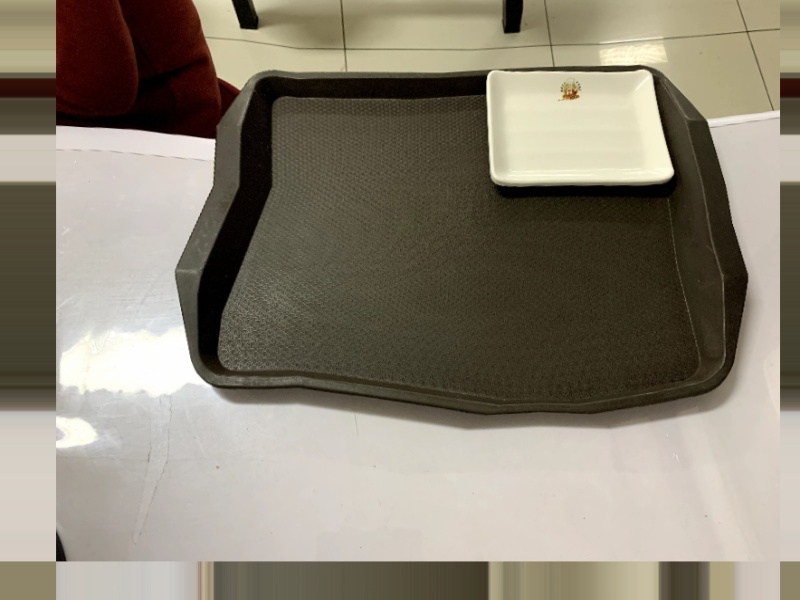dish4: (476, 53, 681, 204)
